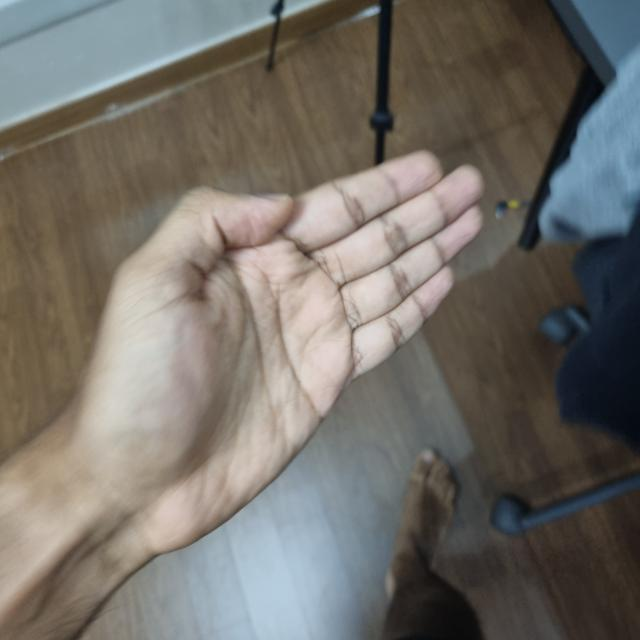Paper: (74, 150, 486, 546)
